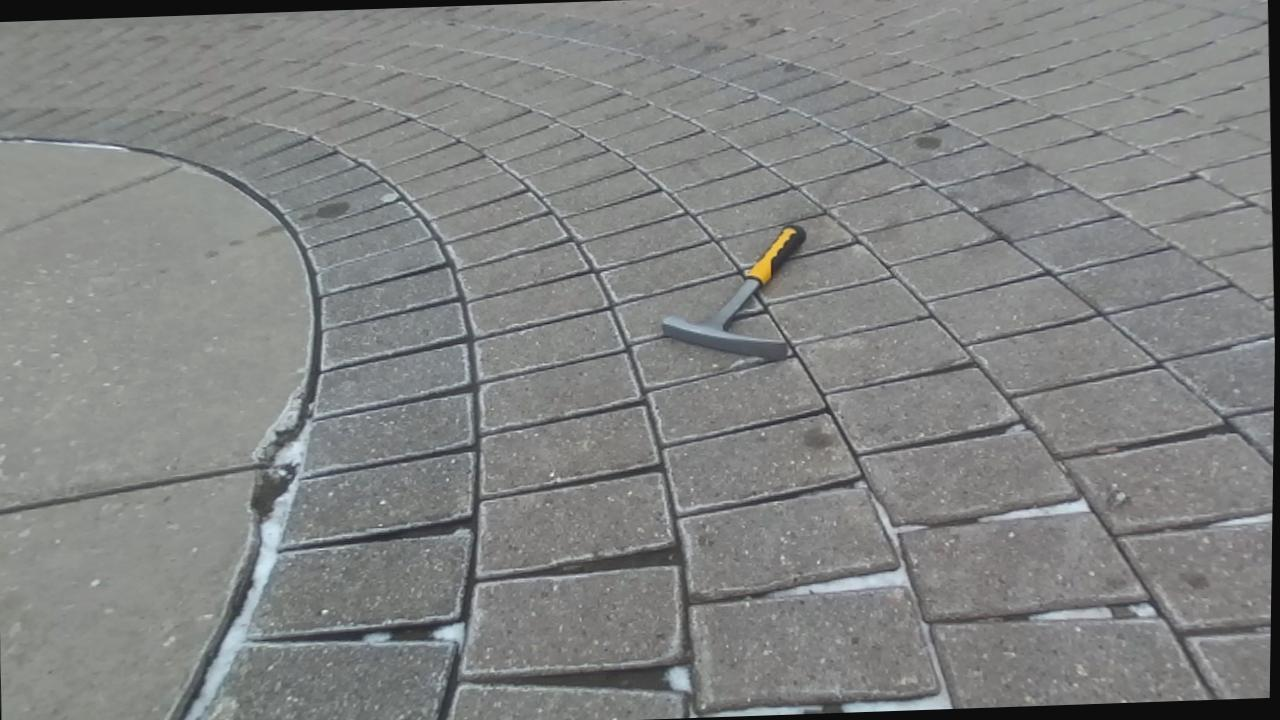pick: (662, 225, 805, 359)
